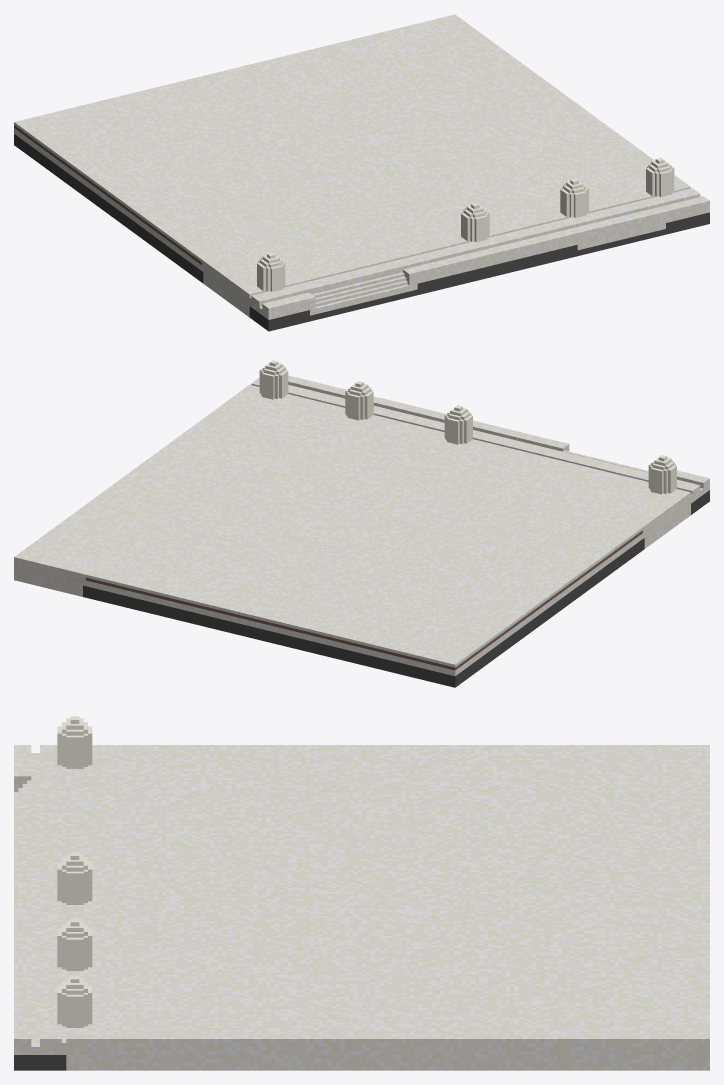
File: pathway castle1.2.obj
3 views of the same model, one above another, from view 1: azimuth 30°, elevation 25°; view 2: azimuth 150°, elevation 25°; view 3: azimuth 270°, elevation 25° (orthographic). The views are drawn at different scales.
Bounding box in the file's own units: 16 × 1.9 × 16.
Materials: 1 (1 with a texture image).
